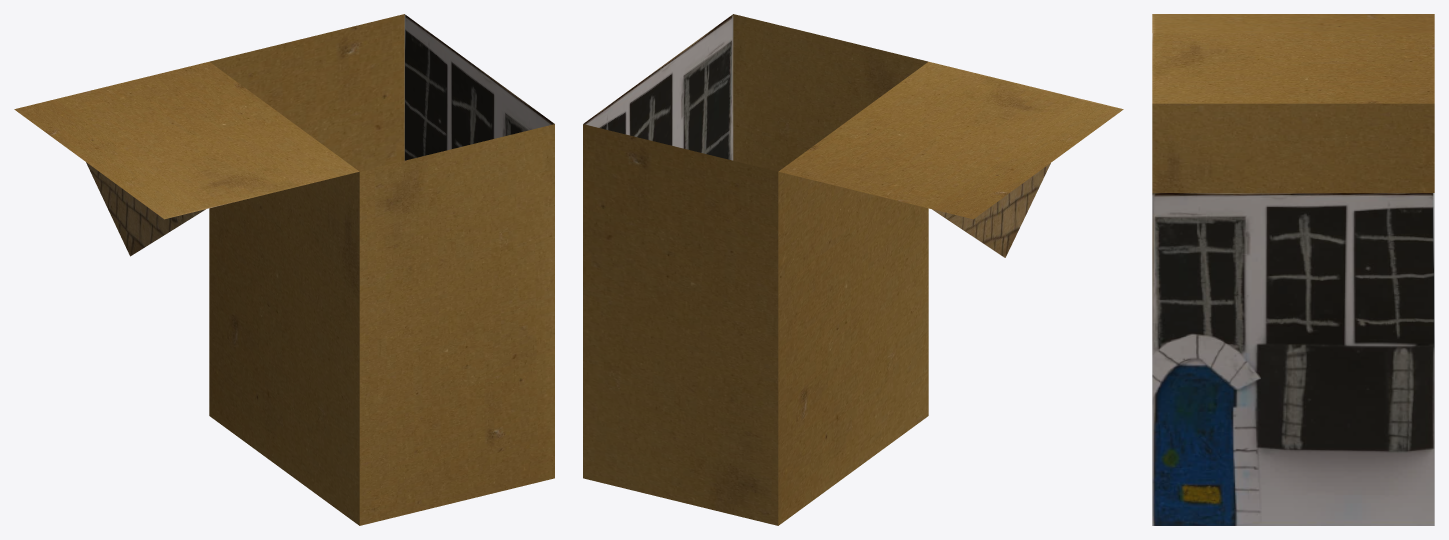
3 renders of one model, left to right at view 1: azimuth 30°, elevation 25°; view 2: azimuth 150°, elevation 25°; view 3: azimuth 270°, elevation 25°, orthographic. The views are drawn at different scales.
Parts seen in each view (by area): view 1: Cube, Cube.002, Cube.003, Cube.001; view 2: Cube, Cube.002, Cube.003, Cube.001; view 3: Cube, Cube.002, Cube.003.
Part boxes in pixels (x1,y1,x2,y2): Cube: (209,124,554,525); Cube.002: (14,61,359,219); Cube.003: (210,14,554,171); Cube.001: (86,162,205,256); Cube: (583,124,928,525); Cube.002: (778,61,1123,219); Cube.003: (583,14,927,171); Cube.001: (932,163,1050,257); Cube: (1152,193,1434,525); Cube.002: (1152,14,1434,103); Cube.003: (1152,103,1434,192).
Bounding box in the file's own units: 15 × 13 × 10.
1 material, 1 textured.
